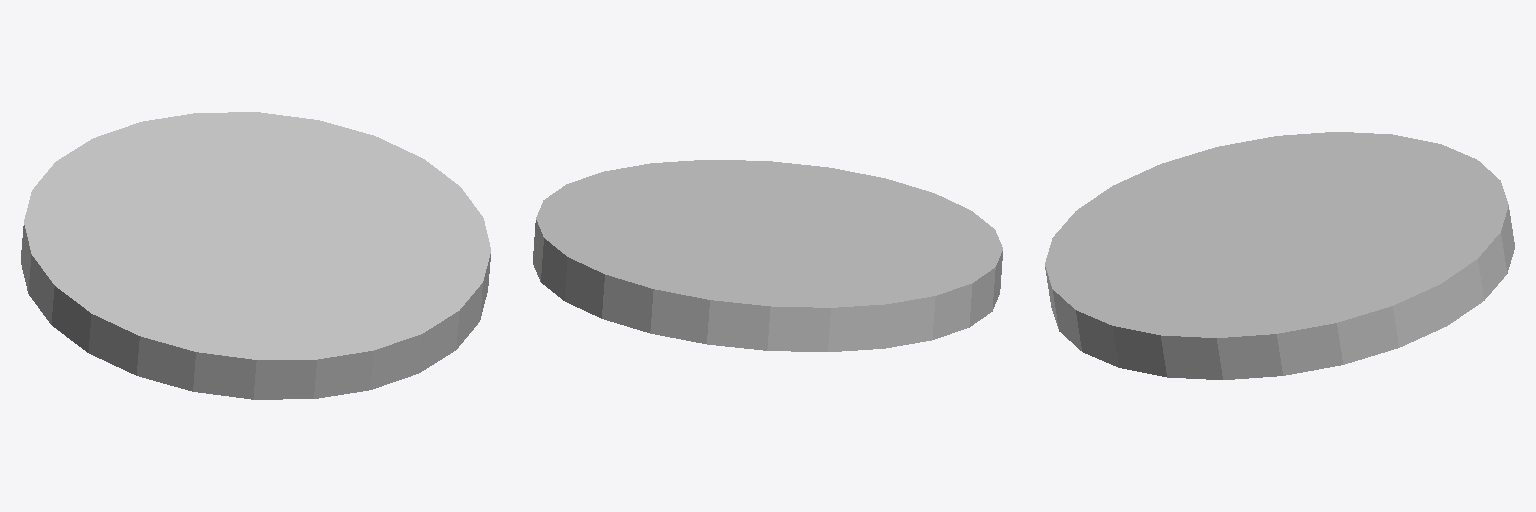
File: original-555.obj
The picture shows the model from 3 angles: view 1: azimuth 30°, elevation 25°; view 2: azimuth 150°, elevation 25°; view 3: azimuth 270°, elevation 25°; orthographic projection.
Visible parts, largest first — view 1: mesh413/mesh413-geometry#mesh413-geometry; view 2: mesh413/mesh413-geometry#mesh413-geometry; view 3: mesh413/mesh413-geometry#mesh413-geometry.
Part boxes in pixels (x1,y1,x2,y2): mesh413/mesh413-geometry#mesh413-geometry: (21,112,490,399); mesh413/mesh413-geometry#mesh413-geometry: (533,160,1002,351); mesh413/mesh413-geometry#mesh413-geometry: (1045,132,1514,379).
Size of the model in its own units: 0.0445 by 0.0106 by 0.0446.